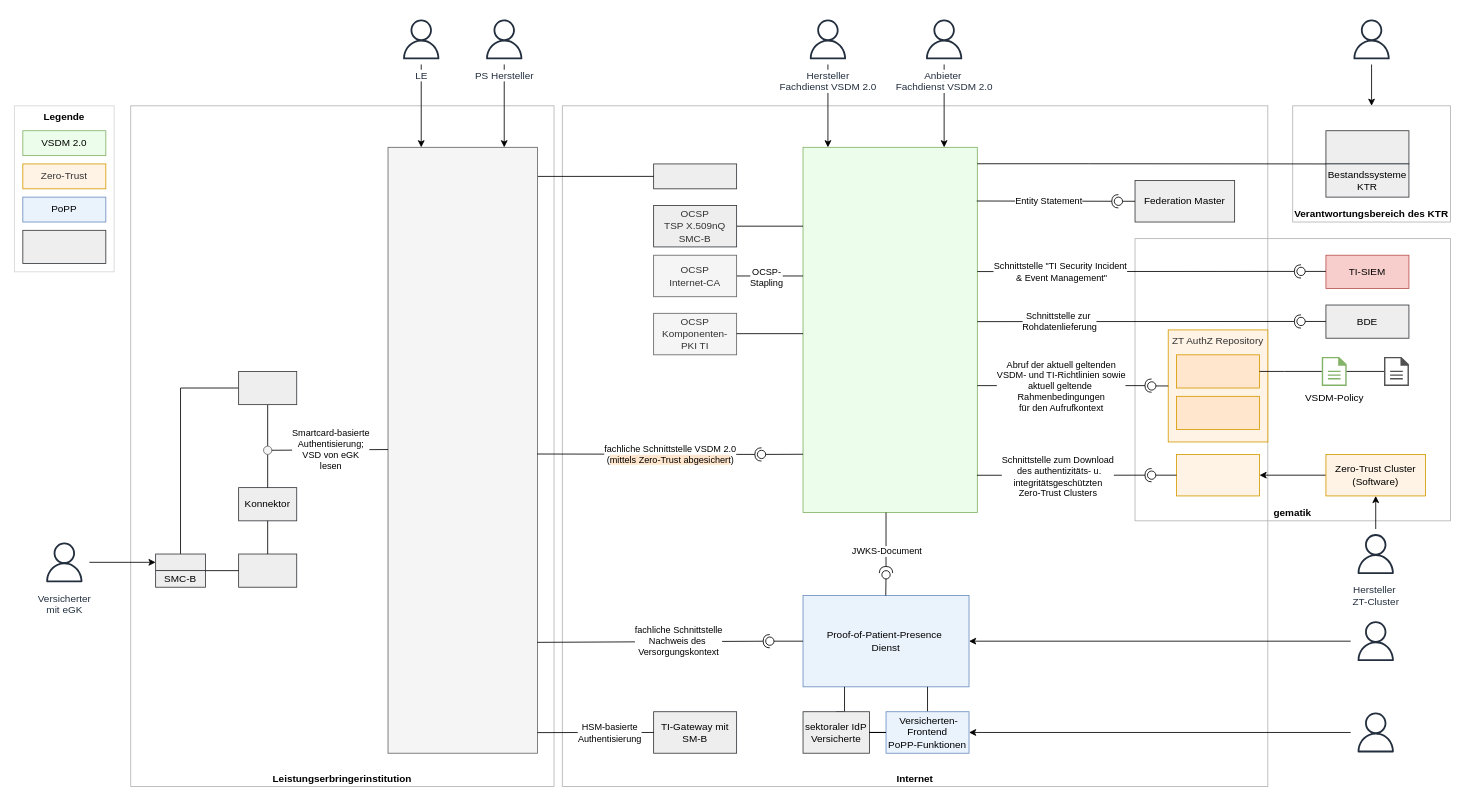
This 1465x802 diagram has some shape labels left out. Here are the shapes that lost their labels. From the top down, the centre of each, then its label:
(1371,39): Kostenträger
(1367,147): KTR-Frontend für Versicherte
(695,176): DNS
(64,246): bestehende Komponenten
(889,329): Versichertenstammdatendienste
(267,388): Smartcard-Reader
(1218,371): PAP
(1396,371): TI-Policy
(1218,412): PIP
(462,449): Primärsysteme
(1218,475): ZT-Cluster Repository
(180,562): eGK
(267,570): eH-KT
(1375,640): Anbieter PoPP-Dienst
(1375,732): Versicherter mit GesundheitsID
